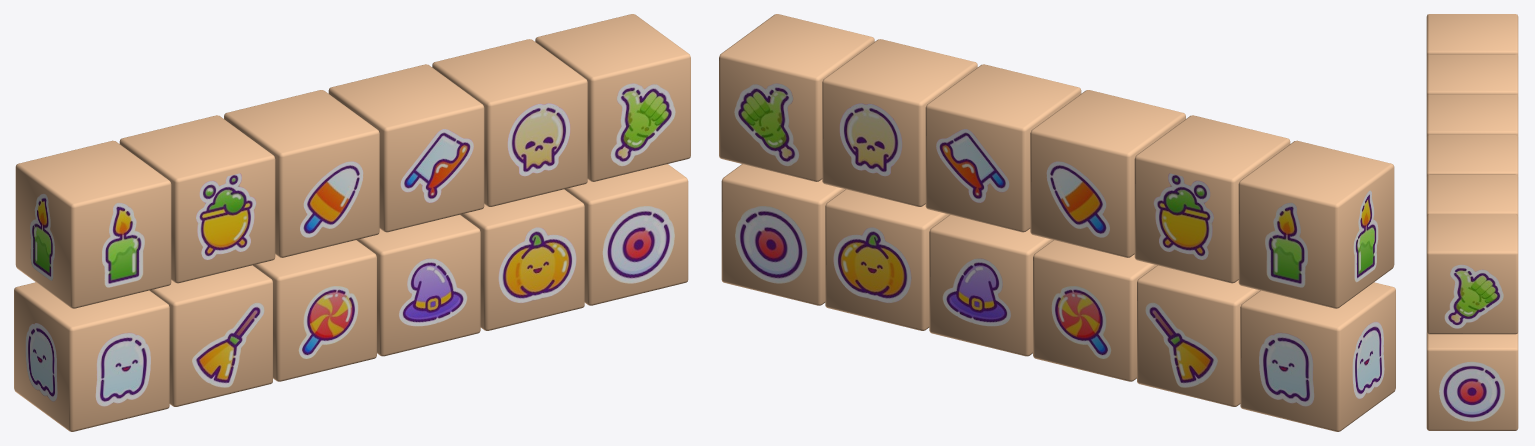
The model's file is  Mahjong 3D_Block.fbx.
3 renders of one model, left to right at view 1: azimuth 30°, elevation 25°; view 2: azimuth 150°, elevation 25°; view 3: azimuth 270°, elevation 25°, orthographic. The views are drawn at different scales.
Visible parts, largest first — view 1: Block.007, Block.012, Block.004, Block.005, Block.006, Block.002, Block.001, Block.008, Block.011, Block.009, Block.010, Block; view 2: Block.007, Block.012, Block.004, Block.005, Block.006, Block.002, Block.001, Block.008, Block.011, Block.009, Block.010, Block; view 3: Block.001, Block.011, Block.006, Block.005, Block.002, Block.007, Block.004.
Boxes of the visible parts, bbox=[...] form: Block.007: bbox=[15, 140, 171, 308]; Block.012: bbox=[14, 282, 169, 431]; Block.004: bbox=[328, 64, 484, 232]; Block.005: bbox=[224, 90, 379, 257]; Block.006: bbox=[119, 115, 275, 283]; Block.002: bbox=[432, 39, 587, 206]; Block.001: bbox=[535, 14, 690, 181]; Block.008: bbox=[460, 189, 584, 330]; Block.011: bbox=[564, 164, 688, 305]; Block.009: bbox=[357, 215, 480, 356]; Block.010: bbox=[253, 240, 376, 381]; Block: bbox=[150, 265, 272, 406]; Block.007: bbox=[1238, 140, 1394, 308]; Block.012: bbox=[1240, 282, 1395, 431]; Block.004: bbox=[925, 64, 1081, 232]; Block.005: bbox=[1030, 90, 1185, 257]; Block.006: bbox=[1134, 115, 1290, 283]; Block.002: bbox=[822, 39, 977, 206]; Block.001: bbox=[719, 14, 874, 181]; Block.008: bbox=[825, 189, 949, 330]; Block.011: bbox=[721, 164, 845, 305]; Block.009: bbox=[929, 215, 1052, 356]; Block.010: bbox=[1033, 240, 1156, 381]; Block: bbox=[1137, 265, 1259, 406]; Block.001: bbox=[1426, 214, 1518, 334]; Block.011: bbox=[1426, 332, 1518, 430]; Block.006: bbox=[1426, 54, 1518, 96]; Block.005: bbox=[1426, 94, 1518, 136]; Block.002: bbox=[1426, 174, 1518, 216]; Block.007: bbox=[1426, 14, 1518, 55]; Block.004: bbox=[1426, 135, 1518, 176].
Bounding box in the file's own units: 12.39 × 2.1 × 4.36.
Materials: 2 (1 with a texture image).
